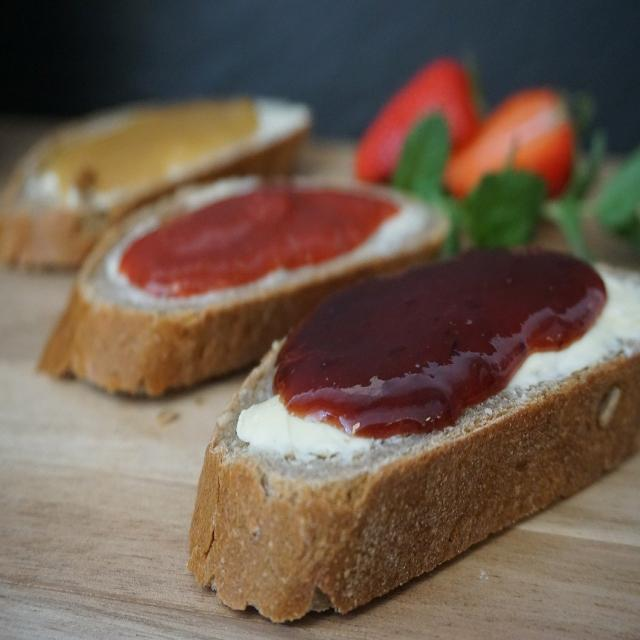Spread: (280, 243, 611, 439), (120, 184, 403, 294)
